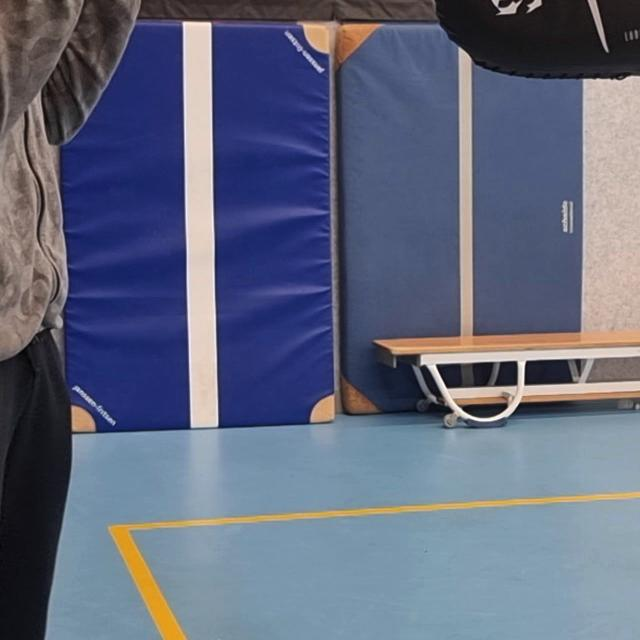paddle: (423, 0, 640, 88)
